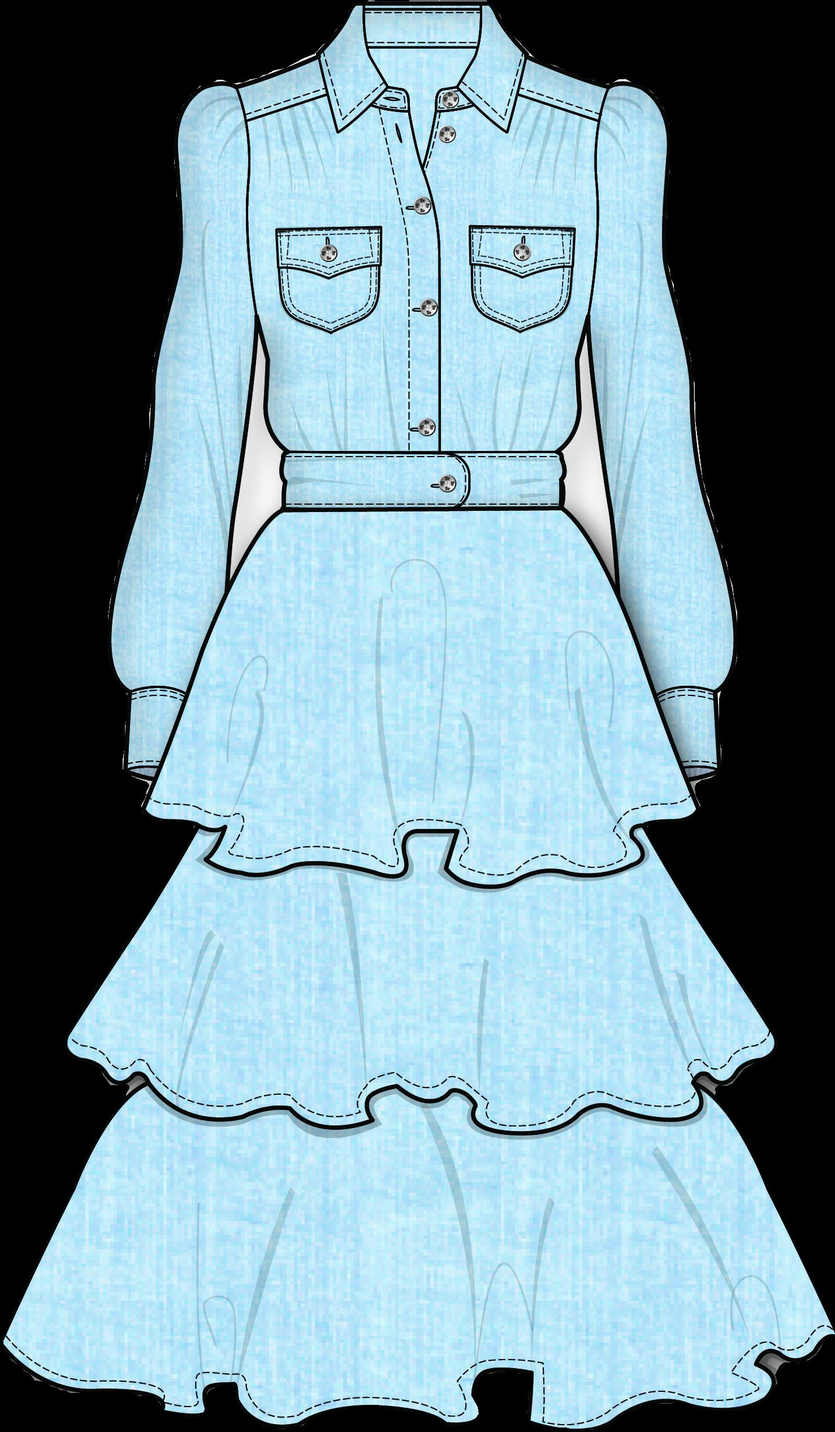Bodice: (236, 5, 612, 512)
Hemline: (0, 1314, 834, 1431), (66, 1033, 777, 1146), (136, 767, 720, 896)
Neckline: (351, 3, 491, 176), (279, 437, 574, 466)
Skirt: (2, 504, 832, 1429)
Sleeve: (107, 78, 260, 774), (586, 79, 737, 780)
Sleeveline: (231, 84, 271, 332), (585, 89, 620, 315), (124, 674, 204, 714), (644, 674, 720, 712)
Waistline: (279, 490, 577, 521)
